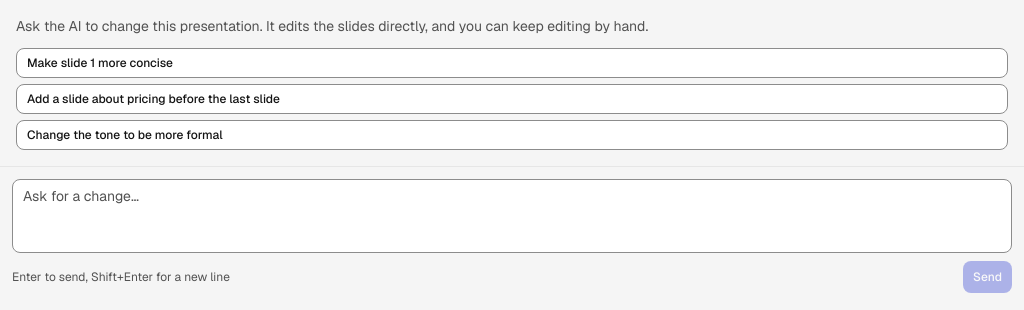
ChatPanel › sends the deck with the message and applies streamed changes to the slides
Type "Shorten slide 1" into the text box named "Message to the AI" at (512, 216), box [12, 179, 1012, 253]
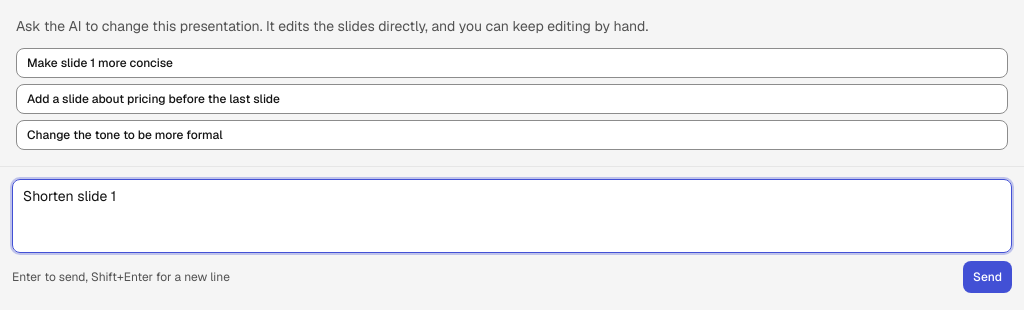
Click the button "Send" at (988, 277), box [963, 261, 1012, 293]
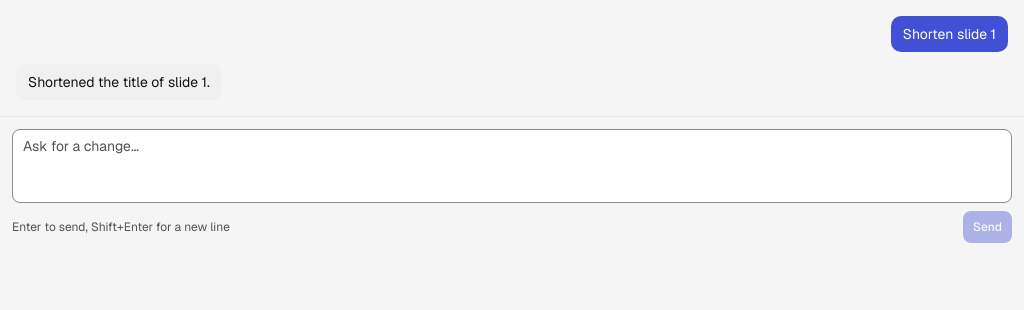
Check: the text "Shortened the title of slide 1." is shown, box [16, 64, 222, 100]
Check: the text box named "Message to the AI" is empty, box [12, 129, 1012, 203]
